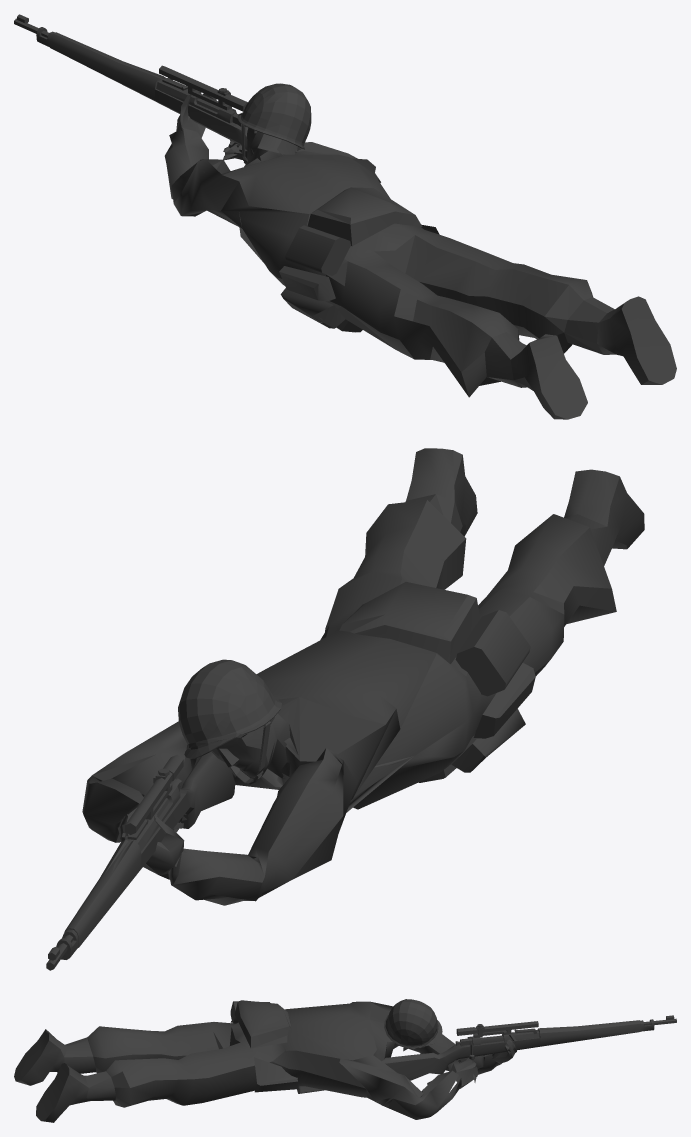
Rendered from us_garand_prono.glb.
3 views of the same model, one above another, from view 1: azimuth 30°, elevation 25°; view 2: azimuth 150°, elevation 25°; view 3: azimuth 270°, elevation 25° (orthographic). The views are drawn at different scales.
Visible parts, largest first — view 1: Object.004_Object.017_2; view 2: Object.004_Object.017_2; view 3: Object.004_Object.017_2.
Boxes of the visible parts, x1=… form: Object.004_Object.017_2: x1=14, y1=14, x2=676, y2=419; Object.004_Object.017_2: x1=46, y1=448, x2=644, y2=970; Object.004_Object.017_2: x1=14, y1=999, x2=676, y2=1122.
Size of the model in its own units: 0.2201 by 0.1331 by 0.8199.
Materials: 1 (1 with a texture image).
